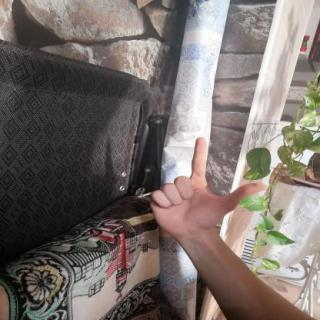LAAM: (141, 133, 273, 245)
